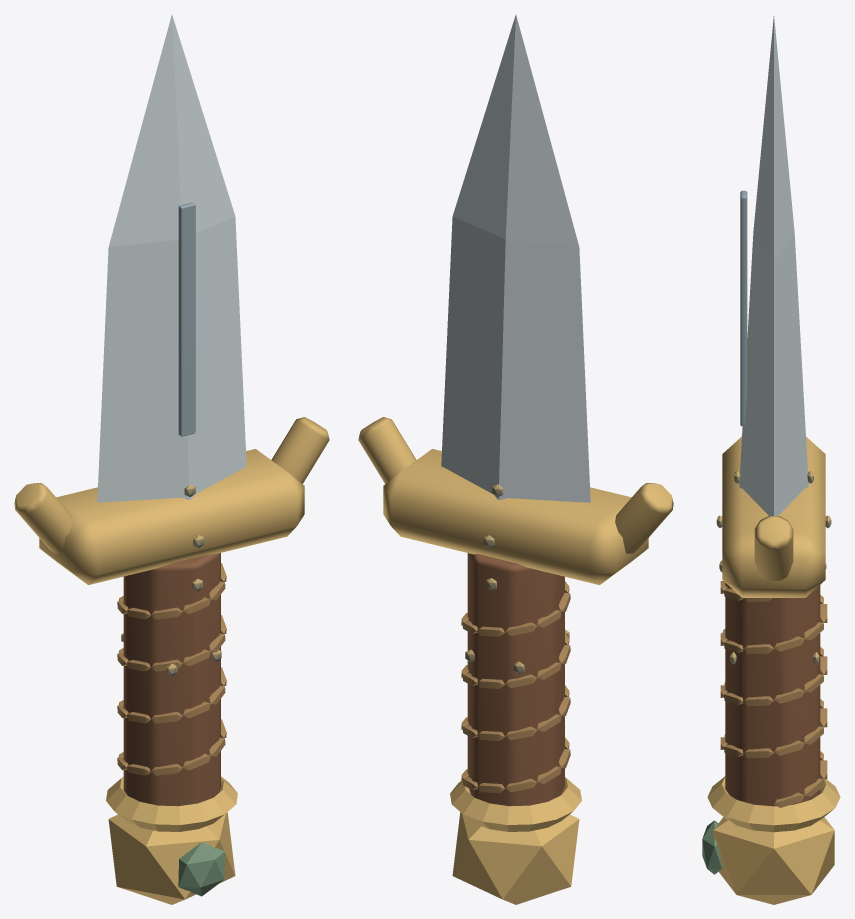
Rendered from daga_cazador_t2.glb.
The picture shows the model from 3 angles, left to right: view 1: azimuth 30°, elevation 25°; view 2: azimuth 150°, elevation 25°; view 3: azimuth 270°, elevation 25°; orthographic projection.
Parts seen in each view (by area): view 1: daga_cazador_t2_finished; view 2: daga_cazador_t2_finished; view 3: daga_cazador_t2_finished.
Part boxes in pixels (bbox=[...]): daga_cazador_t2_finished: bbox=[14, 15, 329, 904]; daga_cazador_t2_finished: bbox=[358, 15, 673, 904]; daga_cazador_t2_finished: bbox=[702, 16, 840, 904].
Bounding box in the file's own units: 0.45 × 1.24 × 0.1743.
Materials: 7 (1 with a texture image).
